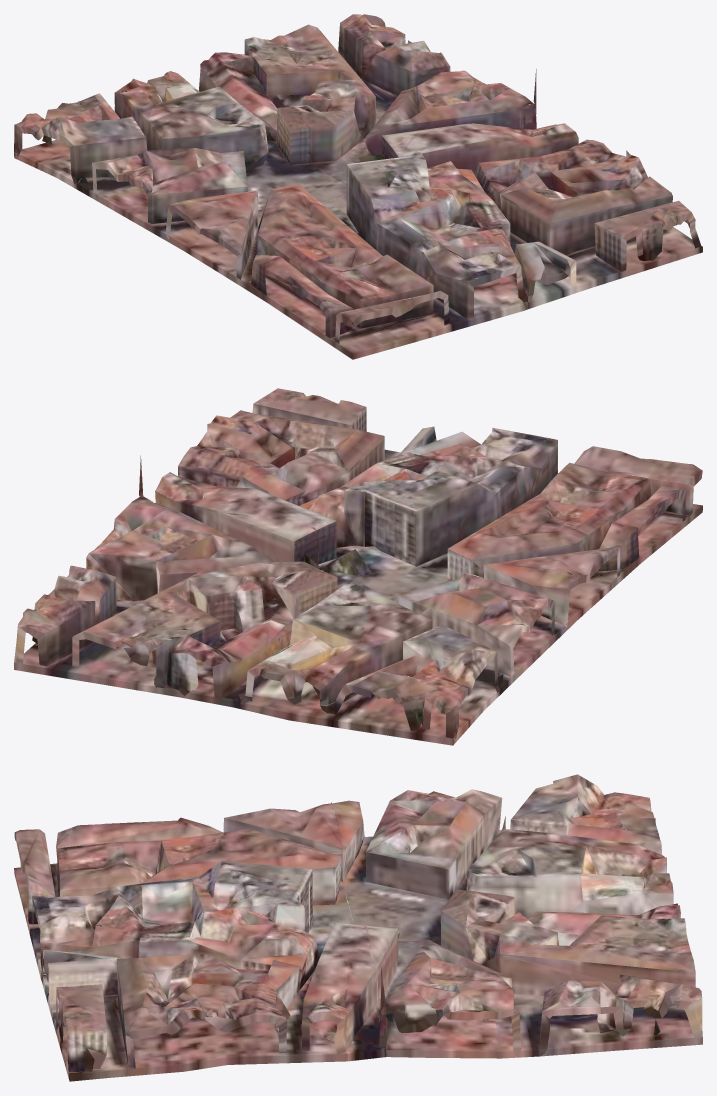
3 views of the same model, one above another, from view 1: azimuth 30°, elevation 25°; view 2: azimuth 150°, elevation 25°; view 3: azimuth 270°, elevation 25° (orthographic). The views are drawn at different scales.
Visible parts, largest first — view 1: Mesh_0; view 2: Mesh_0; view 3: Mesh_0.
Part boxes in pixels (x1,y1,x2,y2): Mesh_0: [14, 14, 702, 359]; Mesh_0: [14, 388, 702, 745]; Mesh_0: [14, 774, 702, 1081].
Bounding box in the file's own units: 266 × 54.61 × 330.
2 materials, 2 textured.
